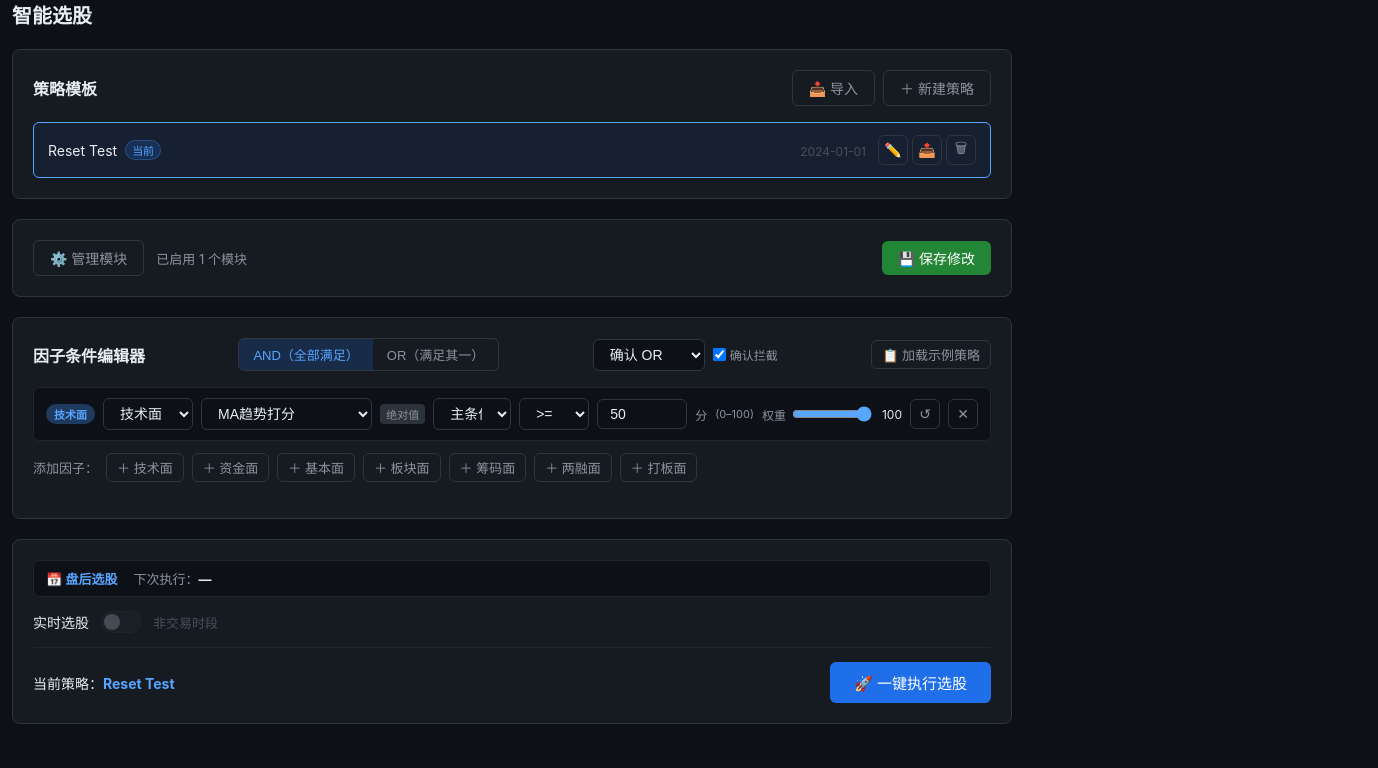
Test: ScreenerView - reset-default button functionality › reset-default button restores FACTOR_REGISTRY default values
Check: the number field with class "factor-threshold" is shown, box [597, 399, 687, 429]
Click the button named "恢复默认" at (925,414), box [910, 399, 940, 429]
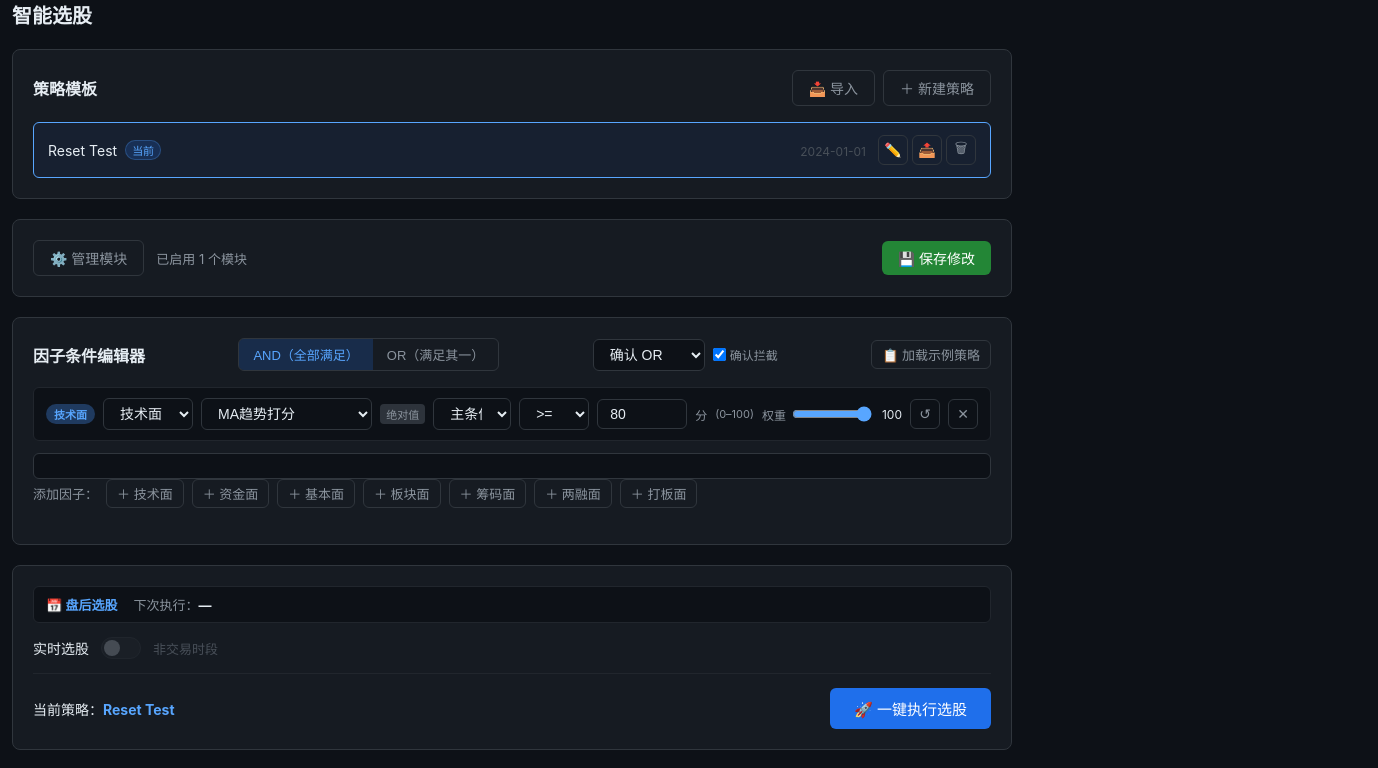
Check: the number field with class "factor-threshold" holds "80", box [597, 399, 687, 429]
